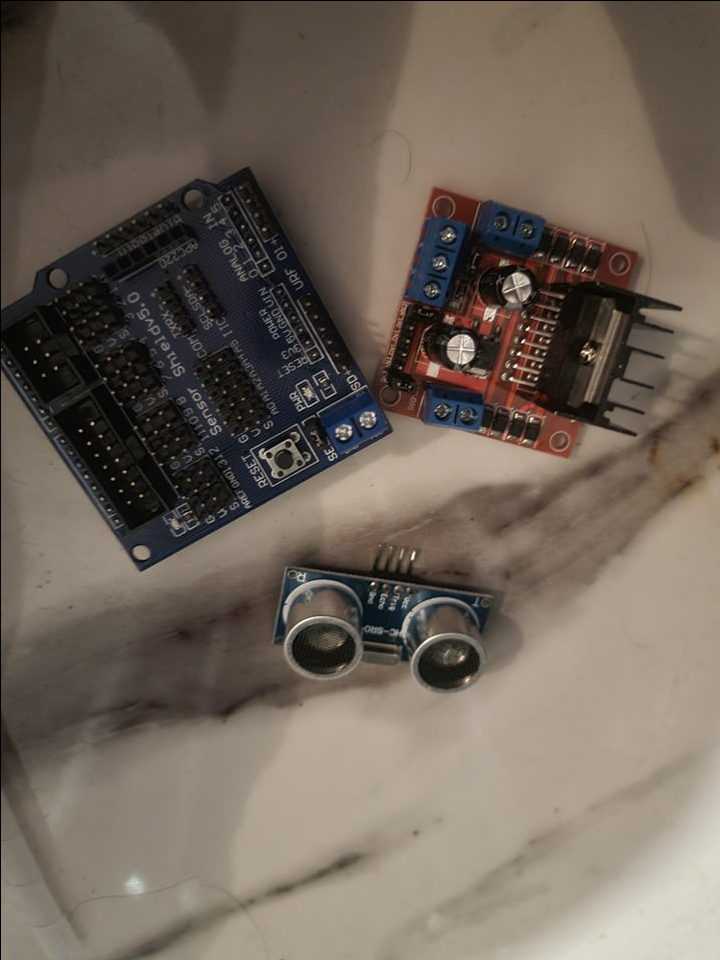5V EXPANSION: (2, 164, 394, 570)
MOTOR: (372, 185, 679, 459)
SENSOR: (271, 550, 498, 695)
